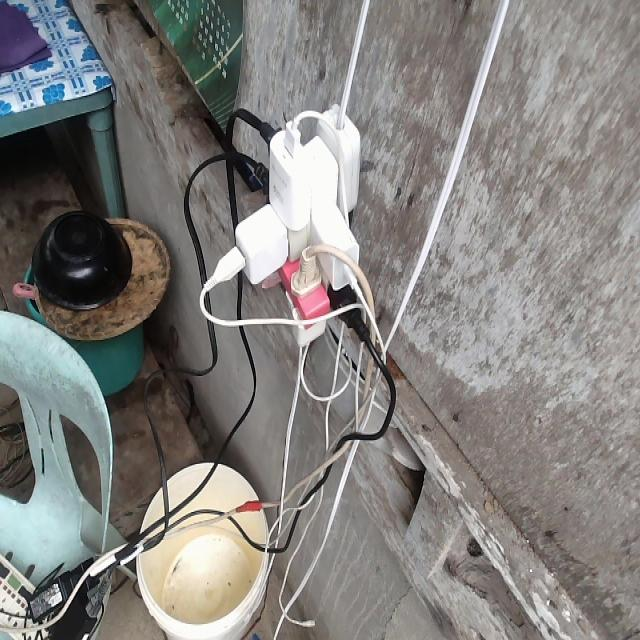-: (206, 105, 371, 352)
